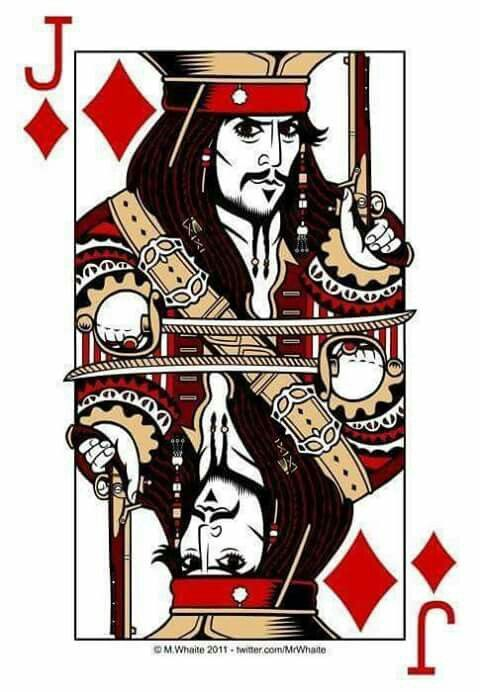jack of diamonds: (9, 8, 469, 678)
